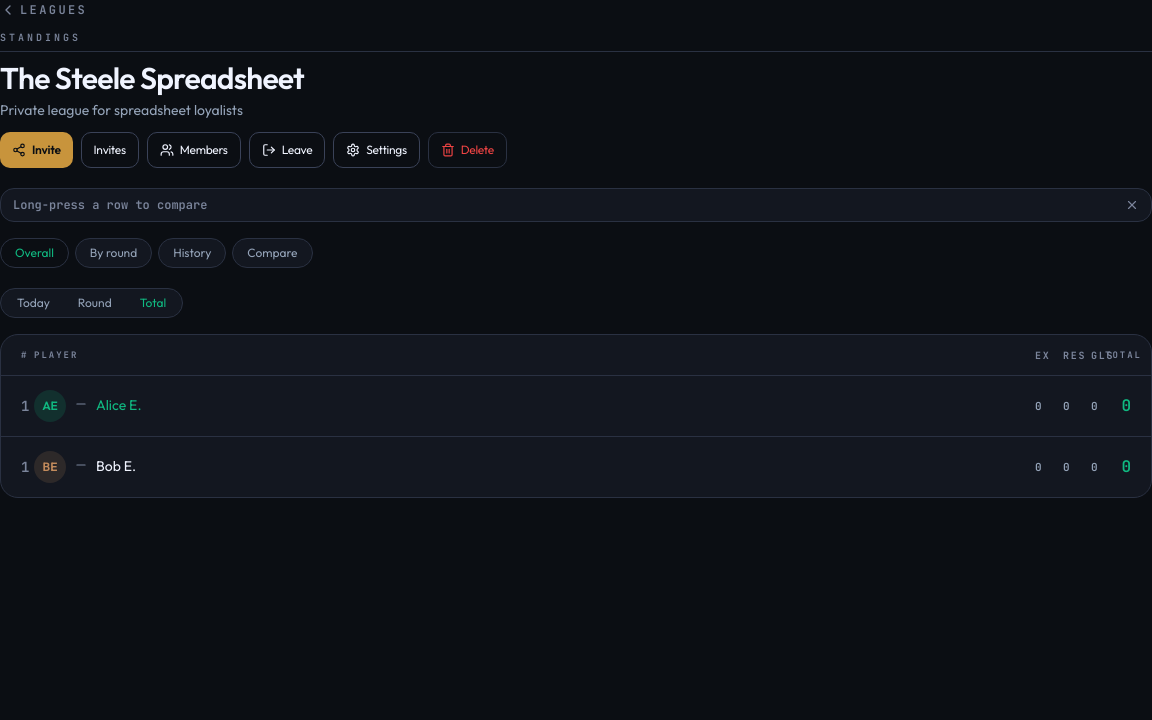
Test: LeaderboardPage › shows settings and delete for admins and opens the leave confirm dialog
Expected: the link "Members" is shown, [147,132,241,168]
Expected: the link "Settings" is shown, [333,132,420,168]
Click the button "Leave". click: (287, 150)
box: [249,132,325,168]
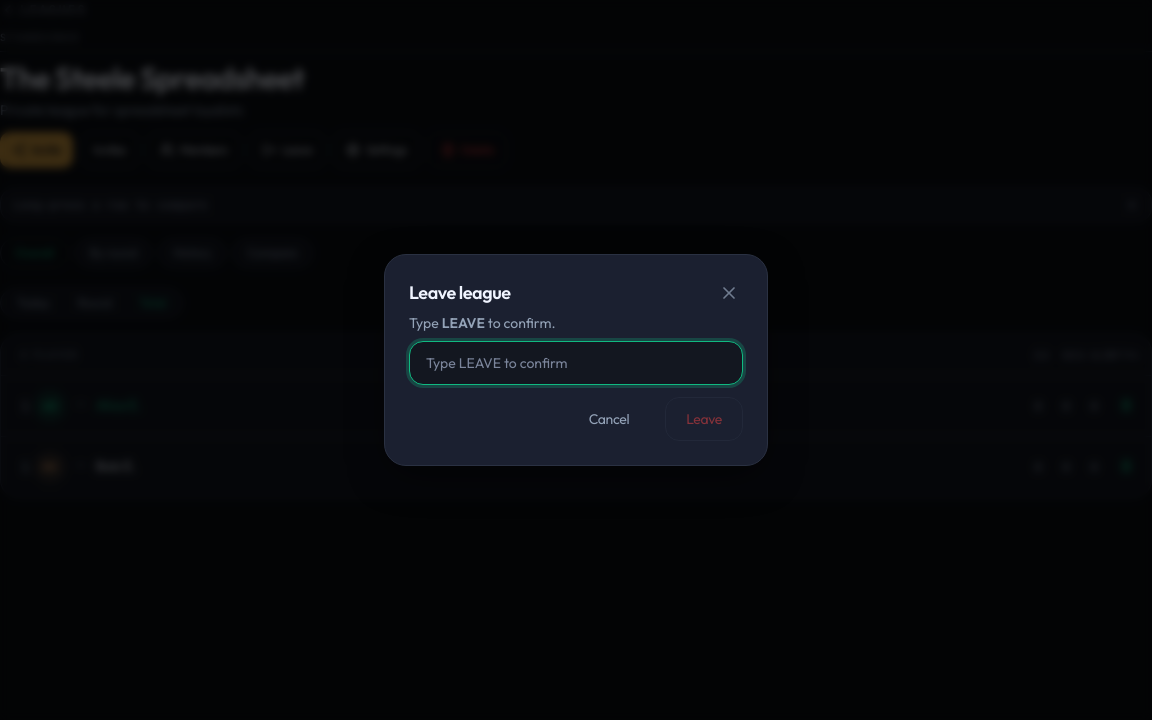
Expected: the dialog "Leave league" is shown, [384,254,768,466]
